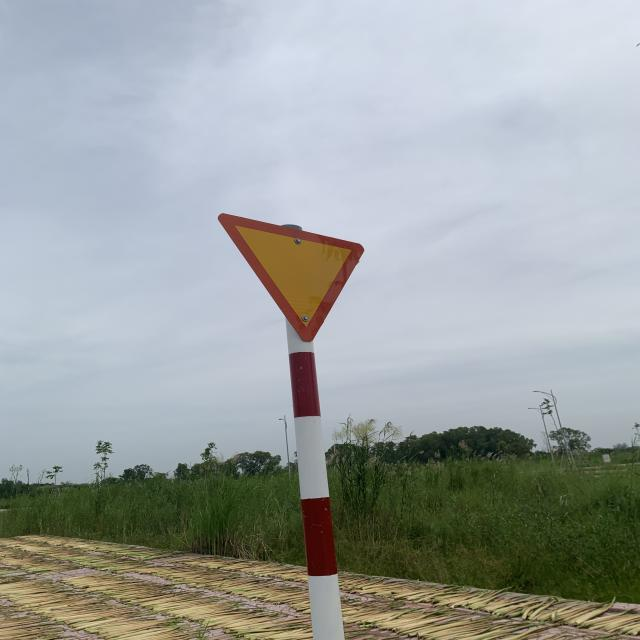Gioi_Han_Toc_Do_25: (217, 213, 365, 339)
